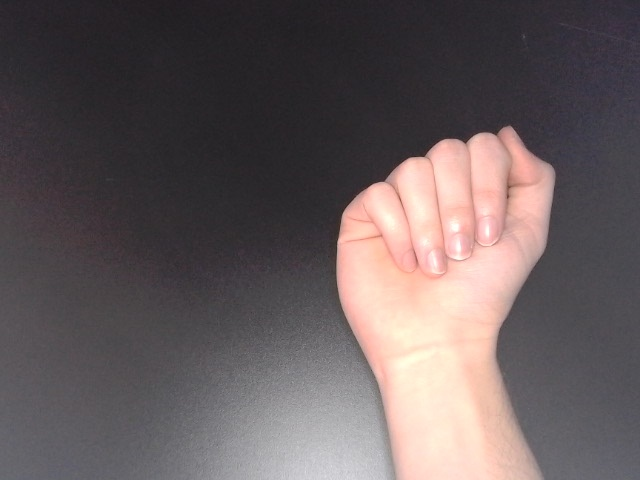a: (331, 120, 562, 382)
